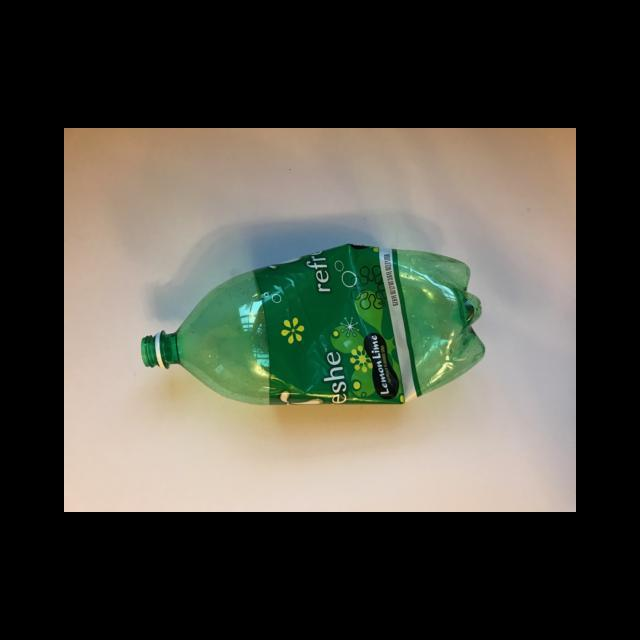plastic: (139, 242, 484, 406), (253, 244, 420, 407)
